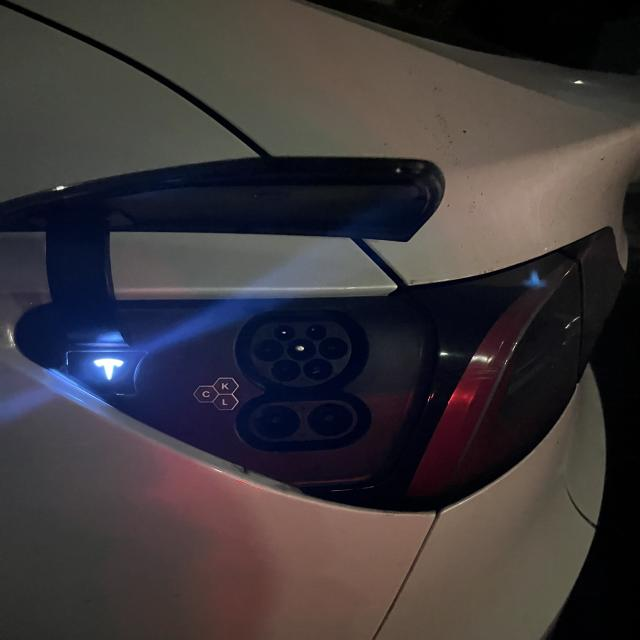inlet: (249, 321, 352, 387)
inlet-above-left: (274, 324, 295, 341)
inlet-above-right: (306, 324, 327, 340)
inlet-below-left: (271, 359, 302, 381)
inlet-below-right: (303, 358, 334, 380)
inlet-circle: (286, 338, 317, 360)
inlet-circle-left: (254, 339, 284, 361)
inlet-circle-right: (318, 338, 348, 360)
inlet-minus: (307, 403, 353, 437)
inlet-plus: (253, 405, 301, 439)
